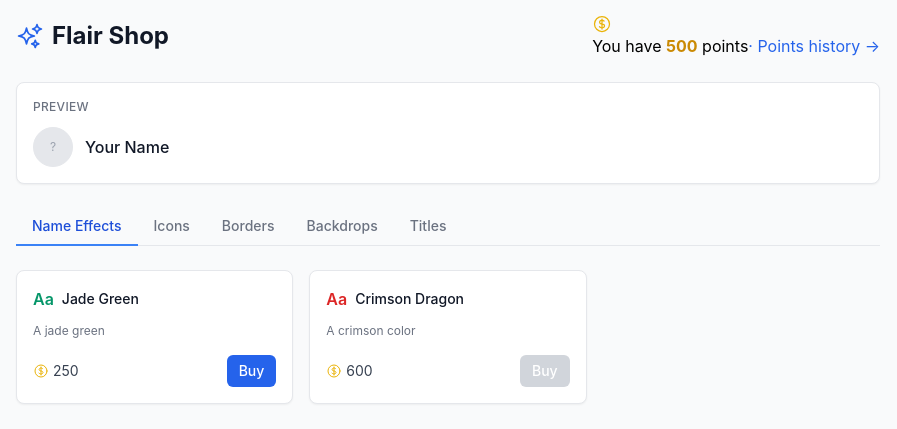
Test: Shop page › profile backdrops › lists backdrop items with a swatch of their class
The width and height of the screenshot is (897, 429).
Click the button "Backdrops": (342, 227) 290,208 -> 394,246
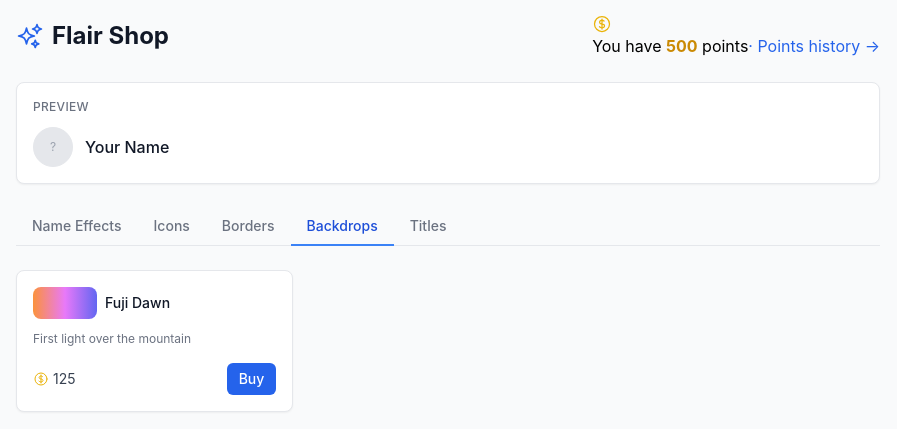
expect the element with test id "flair-item-card-backdrop1" shows "Fuji Dawn": met, box 105,294 -> 170,311
expect the element with class "flair-backdrop-fuji" is shown: met, box 33,287 -> 97,319
